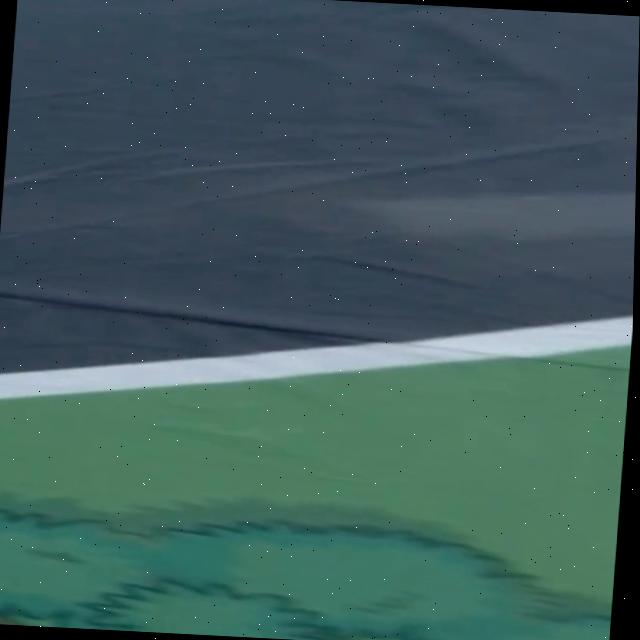right: (0, 315, 633, 397)
